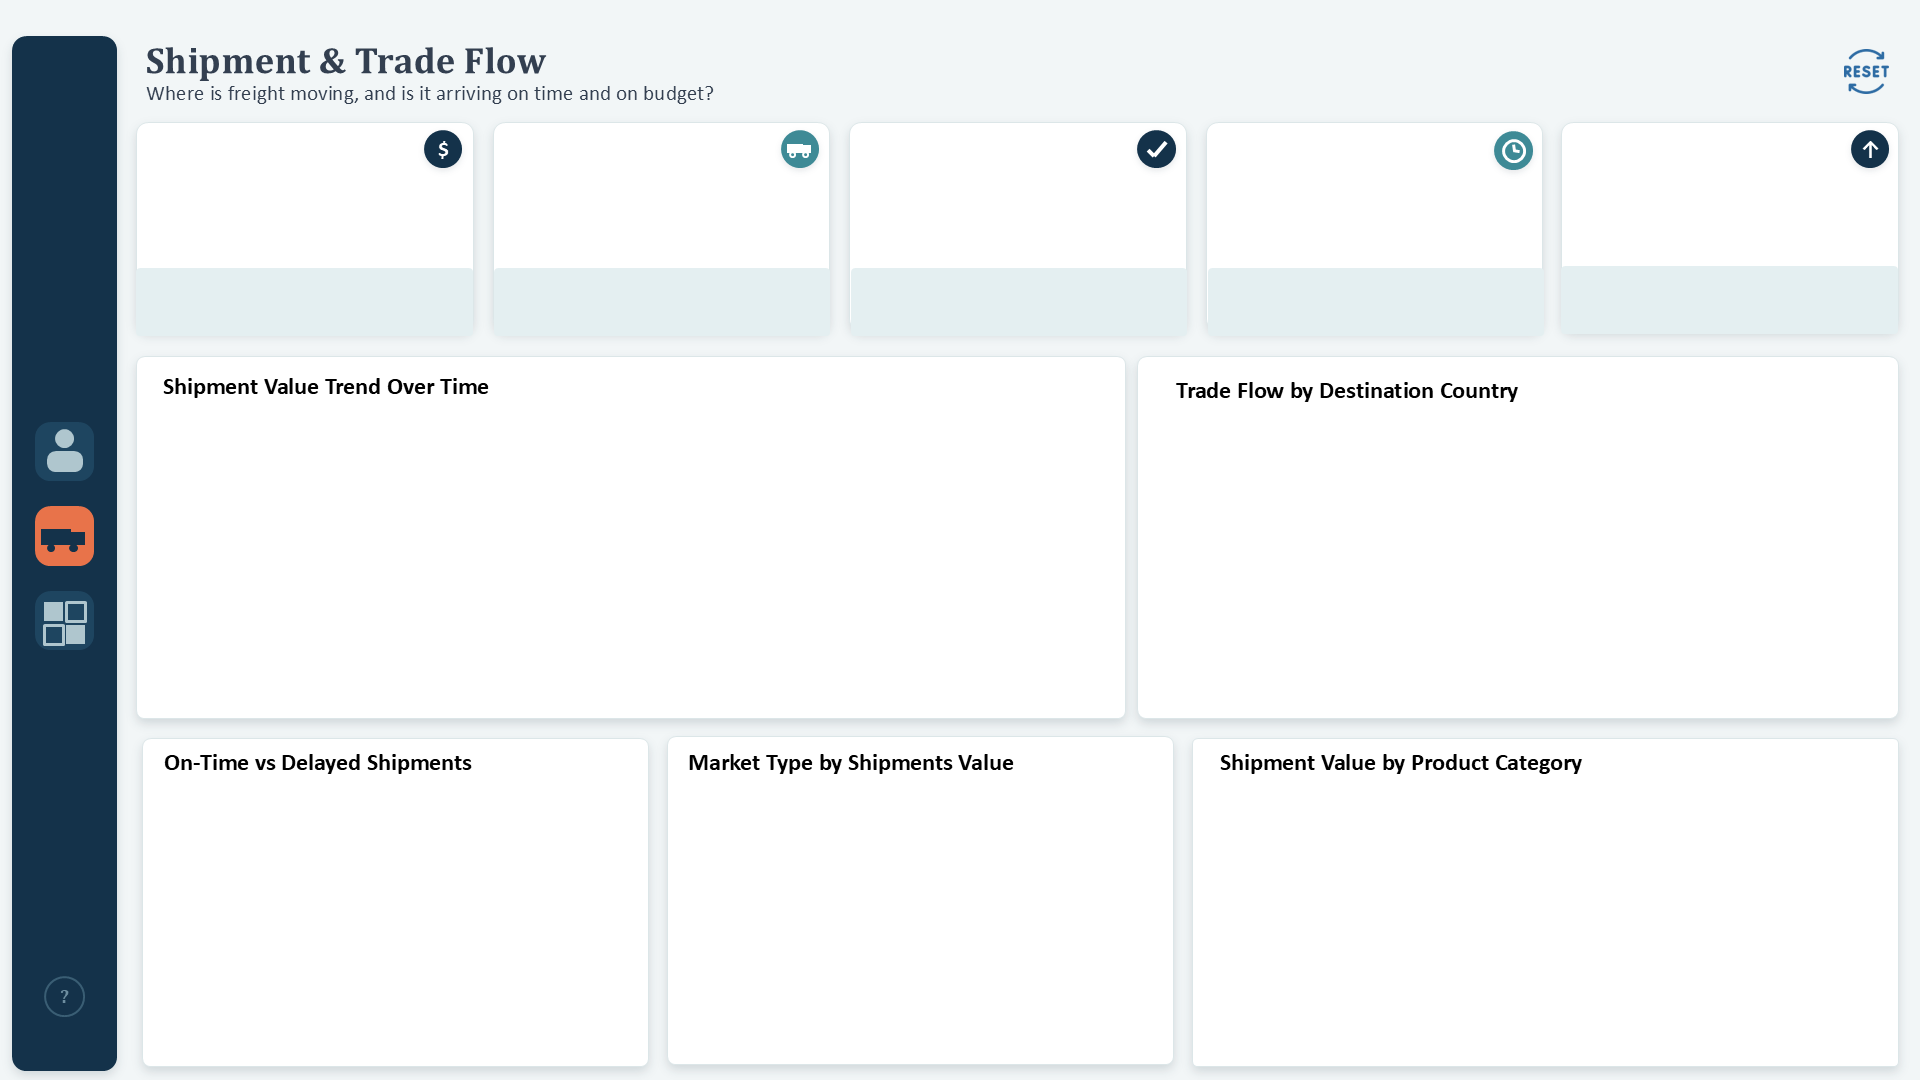

Layout of this report page (visuals, bound fields, positions):
{"tool":"powerbi","page":{"name":"Shipment","canvas":[1280,720],"ordinal":1},"visuals":[{"type":"cardVisual","fields":{"Data":["Measures_.Total Shipment Value","Measures_.Total Freight Cost","Measures_.Total Shipments","Measures_.Avg Customs Clearance (Days)","Measures_.Export Value"]},"box":[71.2,72.7,1208.3,183.2],"z":0},{"type":"donutChart","fields":{"Y":["Measures_.% On-Time Delivery","Measures_.%Delay"]},"box":[59.1,496.7,361.9,222.6],"z":1000},{"type":"cardVisual","fields":{"Data":["Measures_.% On-Time Delivery"]},"box":[137.8,536,207.4,130.2],"z":2000},{"type":"donutChart","fields":{"Y":["Measures_.%import","Measures_.Export"]},"box":[420.9,496.7,361.9,222.6],"z":3000},{"type":"cardVisual","fields":{"Data":["Measures_.%import"]},"box":[543.6,554.2,131.7,109],"z":4000},{"type":"iconMapProE938B1CED4834168A55864E1F8E7242E","fields":{"Longitude":["Avg(Dim_Location.D_Longitude)"],"Latitude":["Avg(Dim_Location.D_Latitude)"],"category":["Dim_Location.D_Country"],"Size":["Measures_.Total Shipment Value"]},"box":[767.7,265,489.1,207.4],"z":5000},{"type":"lineClusteredColumnComboChart","fields":{"Category":["Fact_Shipments.product_category"],"Y":["Measures_.Total Shipment Value"],"Y2":["Measures_.Bubble POS","Measures_.Bubble lbl"]},"box":[745,496.1,535.1,222.8],"z":6000},{"type":"clusteredColumnChart","fields":{"Category":["Calendar.MonthShort"],"Y":["Measures_.Monthly Max","Measures_.Total Shipment Value","Measures_.Monthly Max 2"]},"box":[59.1,230.2,708.6,255.9],"z":7000},{"type":"actionButton","box":[1234.5,237.5,34.2,27.7],"z":8000},{"type":"actionButton","box":[1232.6,490.6,33.3,28.8],"z":9000},{"type":"actionButton","box":[748,490.6,33.3,28.8],"z":10000},{"type":"actionButton","box":[401.3,490.6,33.3,28.8],"z":11000},{"type":"actionButton","box":[711.7,237.7,33.3,28.8],"z":12000},{"type":"lineChart","fields":{"Category":["Calendar.MonthNumber"],"Y":["Measures_.Total Shipment Value","select","select1"]},"box":[166.6,95.4,151.4,80.3],"z":13000},{"type":"lineChart","fields":{"Category":["Calendar.MonthNumber"],"Y":["Measures_.Total Freight Cost","select","select1"]},"box":[411.9,96.9,151.4,80.3],"z":14000},{"type":"lineChart","fields":{"Category":["Calendar.MonthNumber"],"Y":["Measures_.Total Shipments","select","select1"]},"box":[640.5,110.5,151.4,68.1],"z":15000},{"type":"lineChart","fields":{"Category":["Calendar.MonthNumber"],"Y":["Measures_.Avg Customs Clearance","select","select1"]},"box":[878.2,109,151.4,68.1],"z":16000},{"type":"lineChart","fields":{"Category":["Calendar.MonthNumber"],"Y":["Measures_.Export Value","select","select1"]},"box":[1122,109,157.5,68.1],"z":17000},{"type":"slicer","title":"Month","fields":{"Values":["Calendar.MonthShort"]},"box":[1025.1,1.5,193.8,71.2],"z":18000},{"type":"actionButton","box":[1223.5,22.7,42.4,43.9],"z":19000},{"type":"pageNavigator","box":[16.7,277.1,51.5,162],"z":20000},{"type":"cardVisual","fields":{"Data":["Measures_.Base"]},"box":[1232.6,234.7,33.3,33.3],"z":21000},{"type":"cardVisual","fields":{"Data":["Measures_.Base"]},"box":[1229.5,489.1,33.3,33.3],"z":22000},{"type":"cardVisual","fields":{"Data":["Measures_.Base"]},"box":[745,490.6,33.3,33.3],"z":23000},{"type":"cardVisual","fields":{"Data":["Measures_.Base"]},"box":[396.7,489.1,33.3,33.3],"z":24000},{"type":"cardVisual","fields":{"Data":["Measures_.Base"]},"box":[711.7,237.7,33.3,33.3],"z":25000}]}

Visuals, with their boxes on the page's 1280x720 design canvas (x1, y1, x2, y2). These are canvas units, not pixel positions in the 1920x1080 screenshot, which may show the page scaled, cropped or inside an application window:
cardVisual - Measures_.Total Shipment Value x Measures_.Total Freight Cost: [x1=71, y1=73, x2=1280, y2=256]
donutChart - Measures_.% On-Time Delivery x Measures_.%Delay: [x1=59, y1=497, x2=421, y2=719]
cardVisual - Measures_.% On-Time Delivery: [x1=138, y1=536, x2=345, y2=666]
donutChart - Measures_.%import x Measures_.Export: [x1=421, y1=497, x2=783, y2=719]
cardVisual - Measures_.%import: [x1=544, y1=554, x2=675, y2=663]
iconMapProE938B1CED4834168A55864E1F8E7242E - Avg(Dim_Location.D_Longitude) x Avg(Dim_Location.D_Latitude): [x1=768, y1=265, x2=1257, y2=472]
lineClusteredColumnComboChart - Fact_Shipments.product_category x Measures_.Total Shipment Value: [x1=745, y1=496, x2=1280, y2=719]
clusteredColumnChart - Calendar.MonthShort x Measures_.Monthly Max: [x1=59, y1=230, x2=768, y2=486]
actionButton: [x1=1234, y1=238, x2=1269, y2=265]
actionButton: [x1=1233, y1=491, x2=1266, y2=519]
actionButton: [x1=748, y1=491, x2=781, y2=519]
actionButton: [x1=401, y1=491, x2=435, y2=519]
actionButton: [x1=712, y1=238, x2=745, y2=266]
lineChart - Calendar.MonthNumber x Measures_.Total Shipment Value: [x1=167, y1=95, x2=318, y2=176]
lineChart - Calendar.MonthNumber x Measures_.Total Freight Cost: [x1=412, y1=97, x2=563, y2=177]
lineChart - Calendar.MonthNumber x Measures_.Total Shipments: [x1=640, y1=110, x2=792, y2=179]
lineChart - Calendar.MonthNumber x Measures_.Avg Customs Clearance: [x1=878, y1=109, x2=1030, y2=177]
lineChart - Calendar.MonthNumber x Measures_.Export Value: [x1=1122, y1=109, x2=1280, y2=177]
"Month" slicer: [x1=1025, y1=2, x2=1219, y2=73]
actionButton: [x1=1224, y1=23, x2=1266, y2=67]
pageNavigator: [x1=17, y1=277, x2=68, y2=439]
cardVisual - Measures_.Base: [x1=1233, y1=235, x2=1266, y2=268]
cardVisual - Measures_.Base: [x1=1230, y1=489, x2=1263, y2=522]
cardVisual - Measures_.Base: [x1=745, y1=491, x2=778, y2=524]
cardVisual - Measures_.Base: [x1=397, y1=489, x2=430, y2=522]
cardVisual - Measures_.Base: [x1=712, y1=238, x2=745, y2=271]
